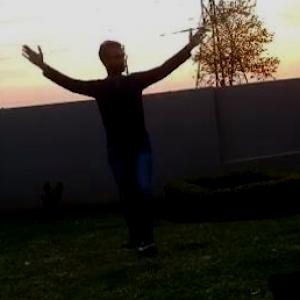takeoff: (3, 20, 203, 249)
